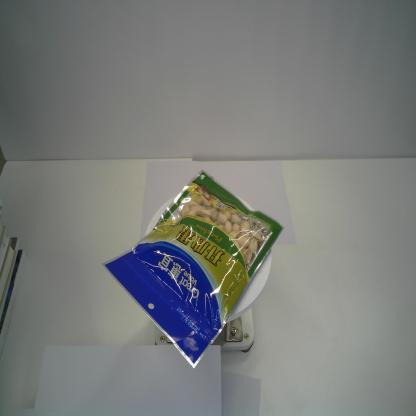Dried Fruit: (101, 166, 286, 368)
